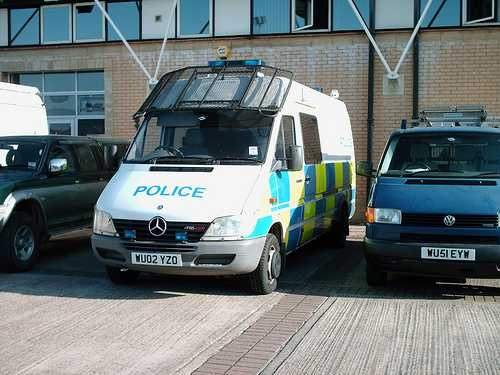Police Van: (88, 42, 361, 293)
